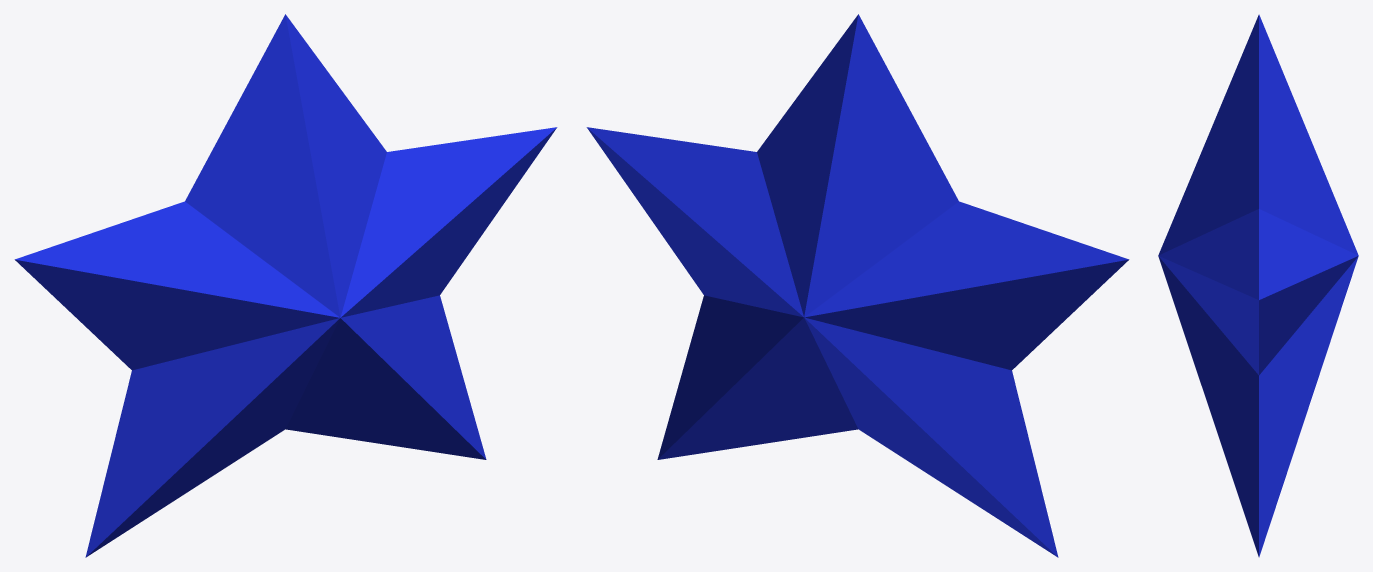
The model's file is Empty.dae.
3 views of the same model, side by side, from view 1: azimuth 30°, elevation 25°; view 2: azimuth 150°, elevation 25°; view 3: azimuth 270°, elevation 25° (orthographic). The views are drawn at different scales.
Parts seen in each view (by area): view 1: Mesh0_VC; view 2: Mesh0_VC; view 3: Mesh0_VC.
Part boxes in pixels (box(x1,y1,x2,y2)): Mesh0_VC: box(14, 14, 557, 557); Mesh0_VC: box(586, 14, 1129, 557); Mesh0_VC: box(1158, 14, 1358, 557).
Size of the model in its own units: 128 by 112 by 44.75.
Materials: 1 (1 with a texture image).
